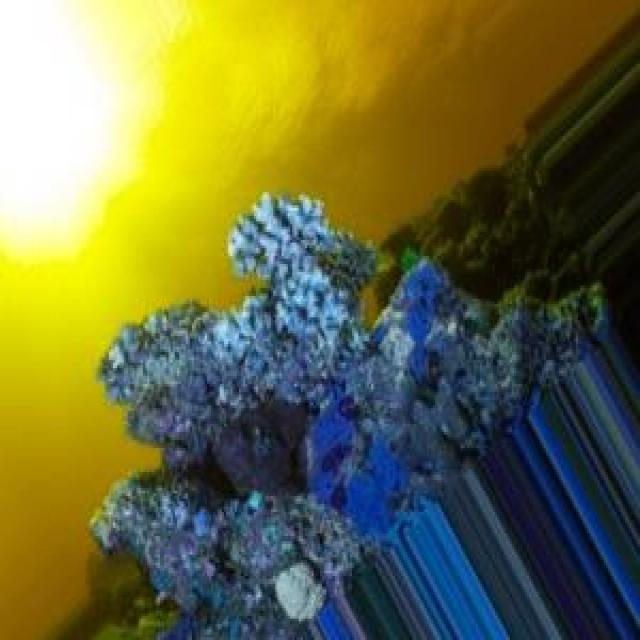Healthy: (101, 201, 483, 508), (91, 468, 364, 640), (475, 297, 594, 449)
